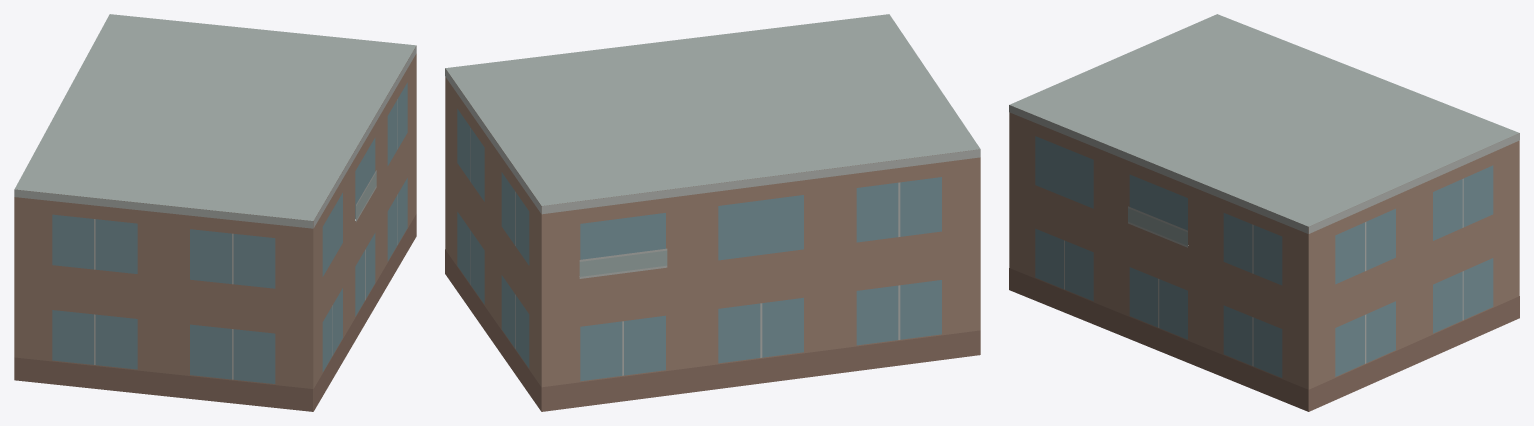
Rendered from survey-upis-32516827.glb.
The picture shows the model from 3 angles, left to right: view 1: azimuth 30°, elevation 25°; view 2: azimuth 150°, elevation 25°; view 3: azimuth 270°, elevation 25°; orthographic projection. The views are drawn at different scales.
Visible parts, largest first — view 1: survey-upis-32516827.tmp; view 2: survey-upis-32516827.tmp; view 3: survey-upis-32516827.tmp.
Boxes of the visible parts, x1,y1,x2,y2 form: survey-upis-32516827.tmp: (14, 14, 416, 411); survey-upis-32516827.tmp: (445, 14, 980, 411); survey-upis-32516827.tmp: (1009, 14, 1519, 411).
Bounding box in the file's own units: 15.04 × 6.1 × 15.25.
